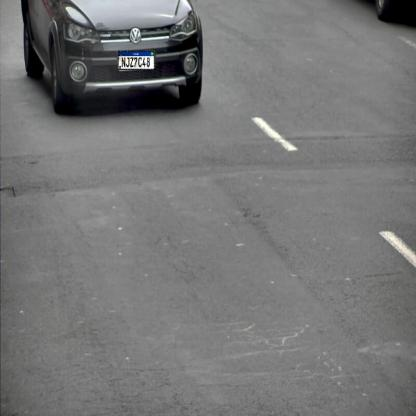PlacaM: (118, 51, 154, 70)
